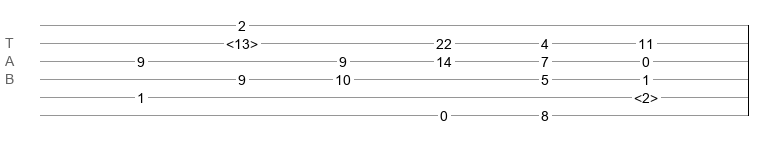0: (440, 108, 448, 118), (642, 54, 650, 64)
1: (137, 90, 145, 100), (642, 72, 650, 82)
10: (335, 72, 351, 82)
11: (638, 36, 654, 46)
14: (436, 54, 452, 64)
2: (238, 18, 246, 28)
22: (436, 36, 452, 46)
4: (541, 36, 549, 46)
5: (541, 72, 549, 82)
7: (541, 54, 549, 64)
8: (541, 108, 549, 118)
9: (137, 54, 145, 64), (238, 72, 246, 82), (339, 54, 347, 64)
harmonic: (226, 36, 258, 46), (634, 90, 658, 100)
